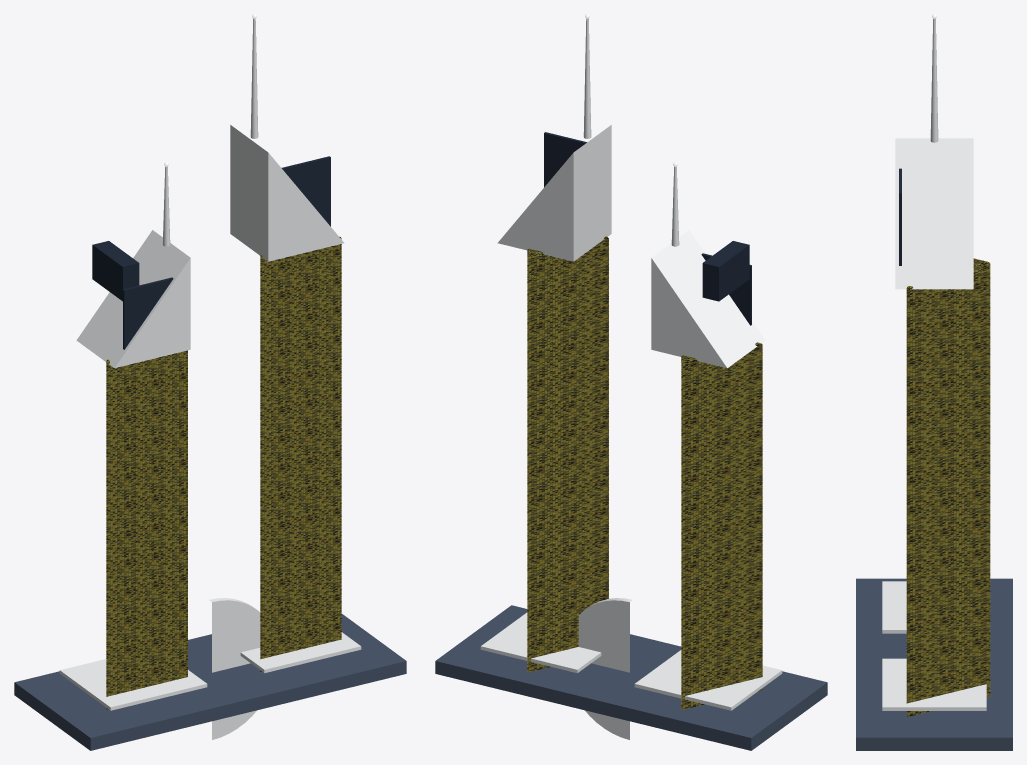
Rendered from jumeirah-emirates-towers.glb.
3 renders of one model, left to right at view 1: azimuth 30°, elevation 25°; view 2: azimuth 150°, elevation 25°; view 3: azimuth 270°, elevation 25°, orthographic. The views are drawn at different scales.
Size of the model in its own units: 11.5 by 24.83 by 4.8.
Materials: 6 (1 with a texture image).
